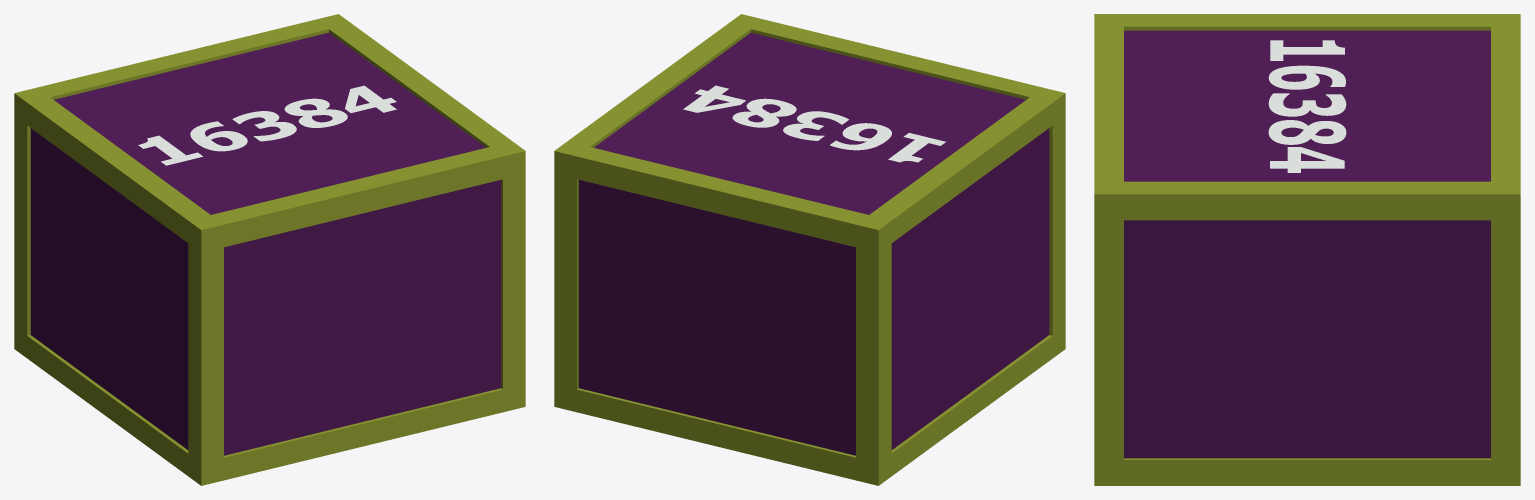
File: 16384Prefab.fbx
The picture shows the model from 3 angles, left to right: view 1: azimuth 30°, elevation 25°; view 2: azimuth 150°, elevation 25°; view 3: azimuth 270°, elevation 25°; orthographic projection. The views are drawn at different scales.
Parts seen in each view (by area): view 1: Text.011; view 2: Text.011; view 3: Text.011.
Boxes of the visible parts, <box> form: Text.011: <box>14,14,525,485</box>; Text.011: <box>554,14,1065,485</box>; Text.011: <box>1094,14,1520,485</box>.
Size of the model in its own units: 194 by 146 by 194.
